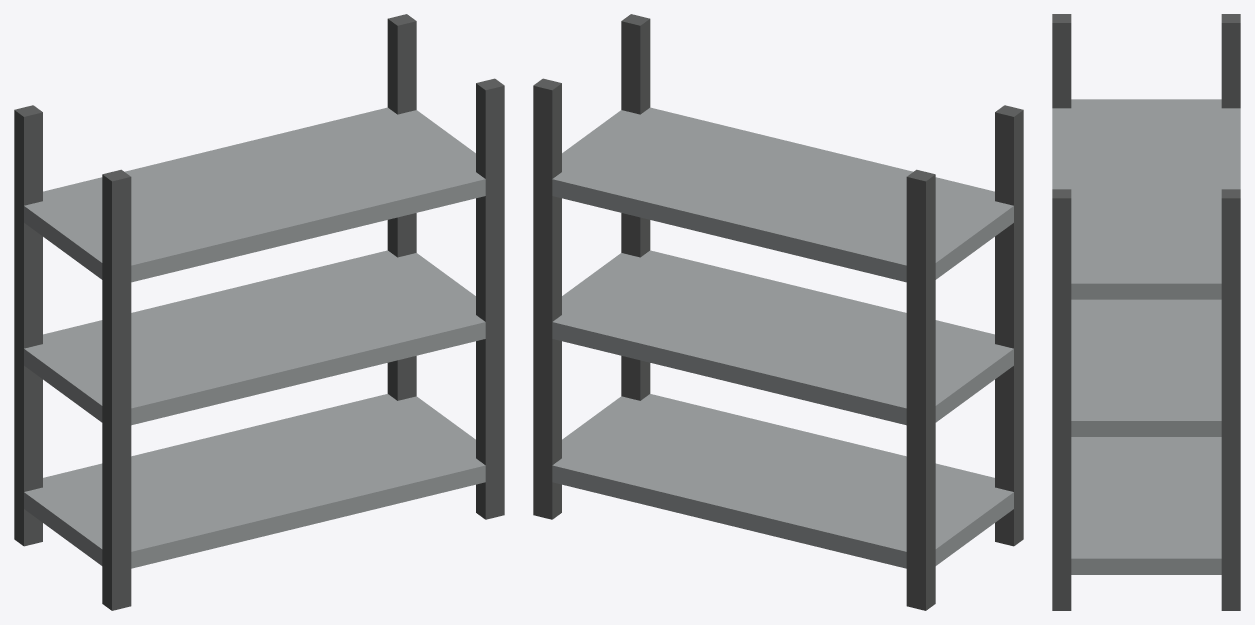
Rendered from Shelf.fbx.
The picture shows the model from 3 angles, left to right: view 1: azimuth 30°, elevation 25°; view 2: azimuth 150°, elevation 25°; view 3: azimuth 270°, elevation 25°; orthographic projection. The views are drawn at different scales.
Visible parts, largest first — view 1: Shelf; view 2: Shelf; view 3: Shelf.
Part boxes in pixels (x1,y1,x2,y2): Shelf: [14, 14, 504, 610]; Shelf: [533, 14, 1023, 610]; Shelf: [1052, 14, 1240, 610].
Bounding box in the file's own units: 4.57 × 4.77 × 1.97.
Materials: 2 (2 with a texture image).
